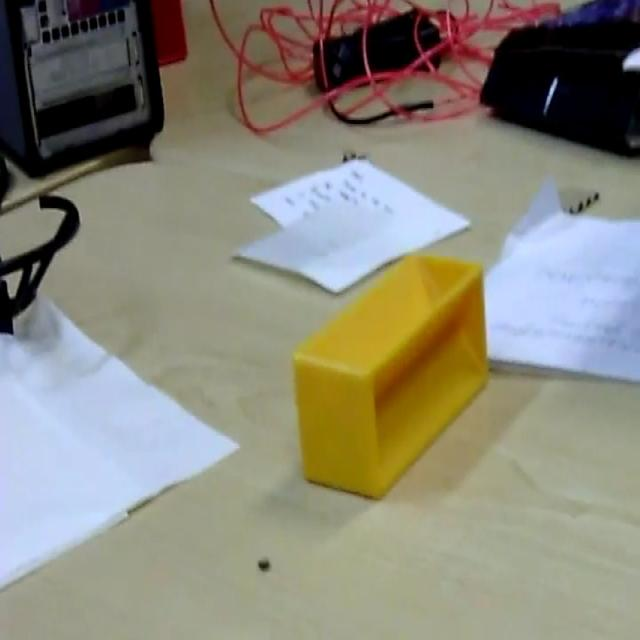yellow_block: (291, 252, 489, 499)
